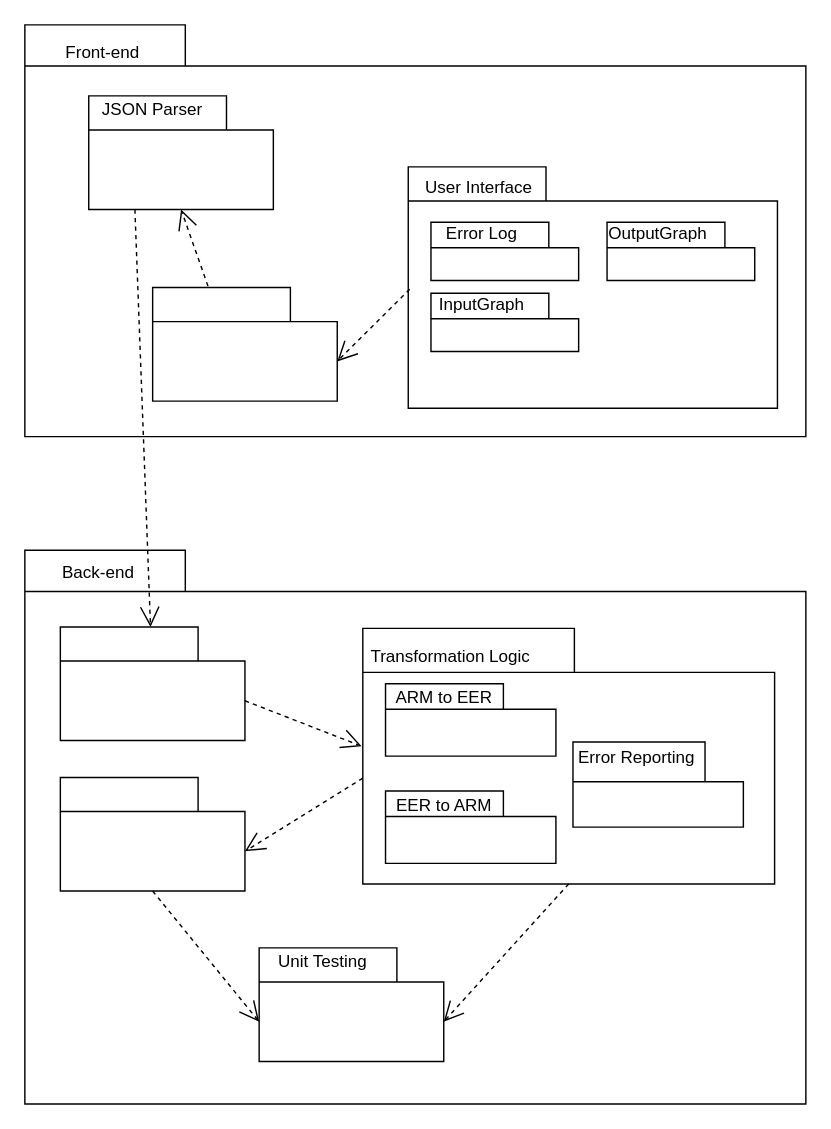
The diagram is 831 pixels wide and 1129 high, and some of its shapes have lost their labels. The shapes that lost their labels are listed below. From the top down, each one's box as (x1, y1, x2, y2) in pixels, then its label:
(151, 286, 337, 401): Graph Renderer
(59, 626, 245, 741): Web Server
(59, 776, 245, 891): JSON Parsing
